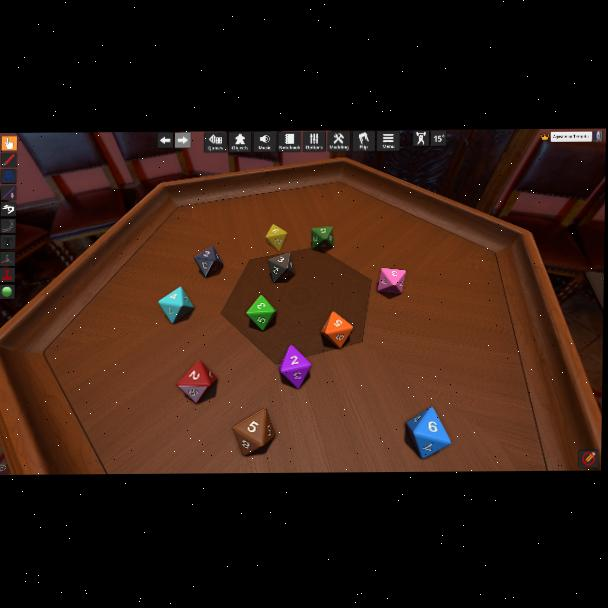d8: (407, 406, 452, 457), (234, 408, 275, 456), (177, 359, 218, 402), (158, 287, 195, 324), (279, 347, 310, 389), (320, 311, 352, 350), (246, 295, 277, 331), (192, 246, 222, 279), (267, 252, 295, 282), (377, 268, 403, 296), (266, 224, 287, 252), (310, 227, 333, 251)
